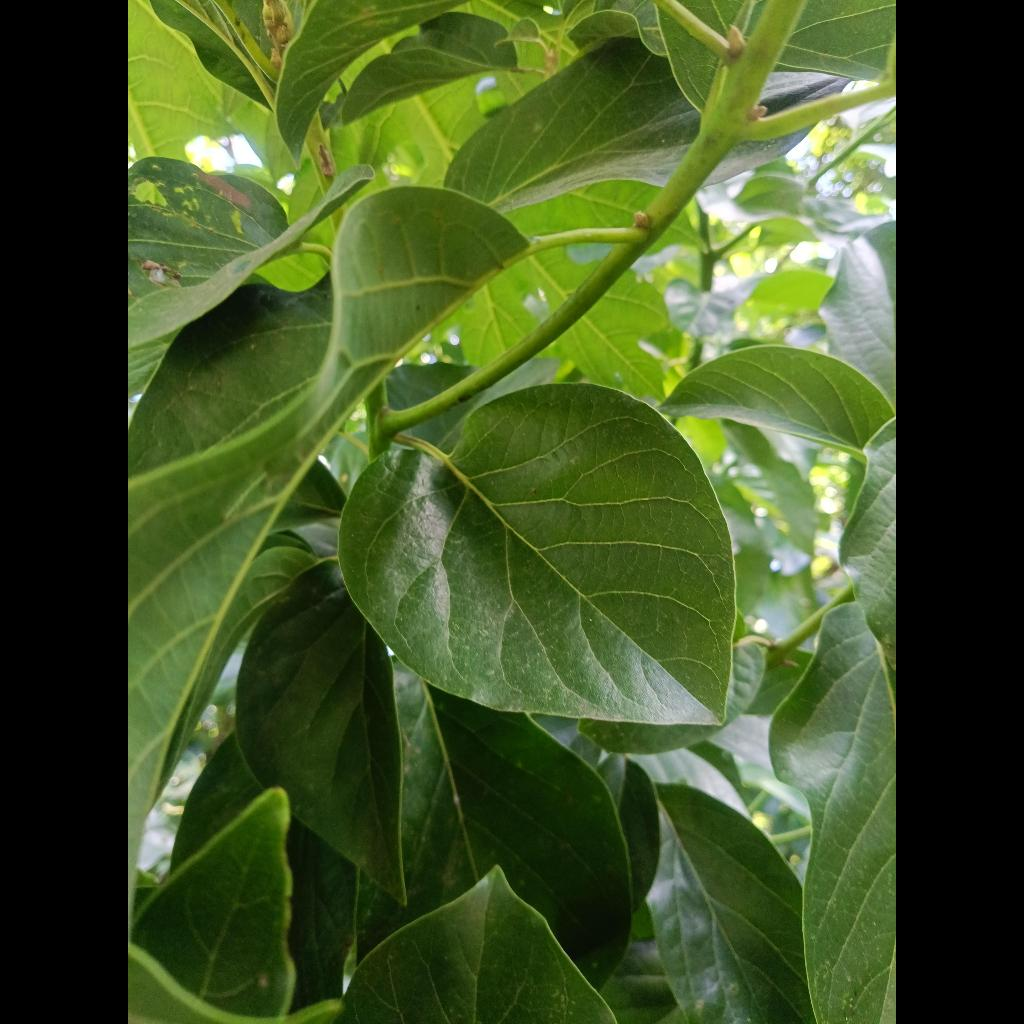Healthy: (339, 384, 735, 725)
